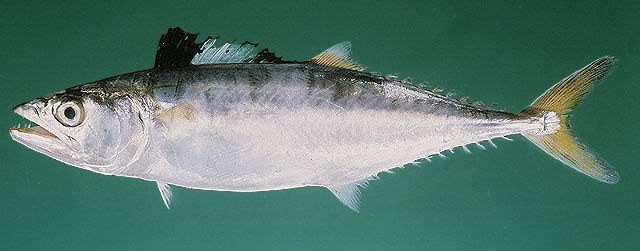fish: (9, 25, 621, 215)
